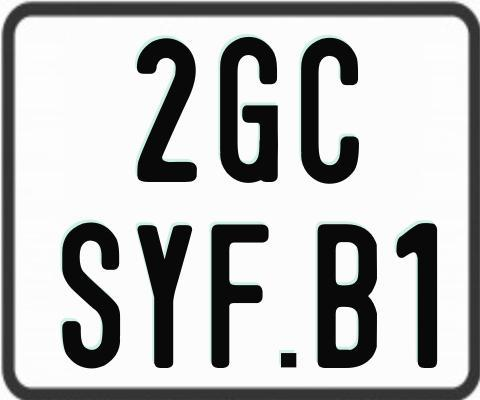1: (396, 222, 438, 372)
2: (135, 35, 198, 185)
B: (318, 222, 383, 370)
C: (301, 38, 360, 184)
F: (211, 223, 275, 370)
G: (218, 34, 281, 180)
S: (61, 221, 122, 367)
Y: (136, 225, 197, 372)
